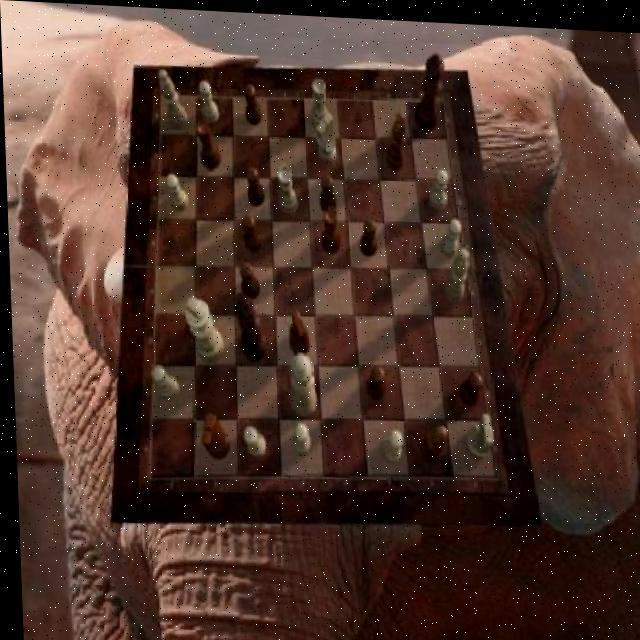bishop: (384, 107, 407, 167), (418, 420, 447, 462)
black-bishop: (233, 289, 265, 361)
black-king: (196, 411, 227, 457), (286, 305, 308, 353)
black-knight: (458, 366, 482, 401), (238, 259, 259, 297), (244, 81, 263, 123), (241, 211, 261, 250), (319, 171, 337, 212), (357, 214, 375, 253), (245, 165, 263, 204), (364, 362, 384, 397)
black-pawn: (412, 47, 446, 127)
black-queen: (195, 117, 221, 169), (320, 204, 341, 252)
black-rook: (159, 68, 188, 129), (442, 242, 468, 298)
white-bishop: (182, 295, 222, 363)
white-king: (462, 409, 491, 456), (315, 109, 337, 163)
white-knight: (149, 364, 177, 401), (438, 214, 462, 254), (163, 172, 187, 209), (427, 165, 448, 206), (198, 79, 218, 122), (379, 424, 401, 460), (240, 423, 263, 456), (289, 419, 309, 454)
white-pawn: (285, 349, 314, 413)
white-queen: (275, 163, 297, 212), (310, 76, 329, 127)
